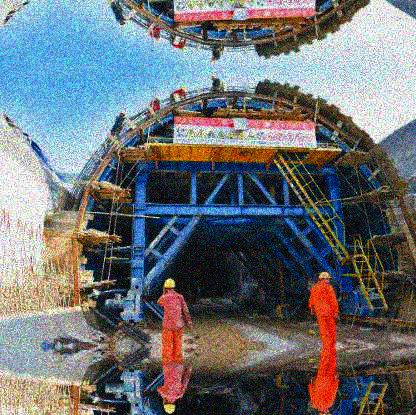helmet: (163, 402, 176, 414)
